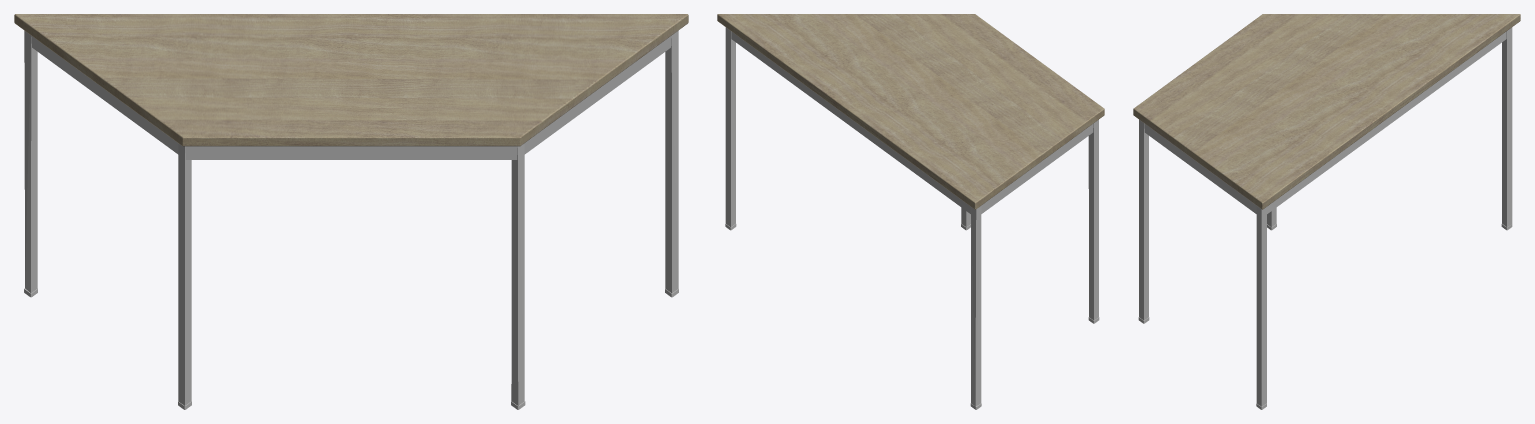
The model's file is conference_form28_160x80.fbx.
3 views of the same model, side by side, from view 1: azimuth 30°, elevation 25°; view 2: azimuth 150°, elevation 25°; view 3: azimuth 270°, elevation 25° (orthographic). The views are drawn at different scales.
Visible parts, largest first — view 1: drewno, metal; view 2: drewno, metal; view 3: drewno, metal.
Part boxes in pixels (left/top/right/bottom): drewno: left=14, top=14, right=688, bottom=146; metal: left=24, top=30, right=678, bottom=405; drewno: left=717, top=14, right=1104, bottom=209; metal: left=725, top=27, right=1098, bottom=406; drewno: left=1133, top=14, right=1520, bottom=209; metal: left=1139, top=27, right=1512, bottom=406.
Bounding box in the file's own units: 138 × 72 × 120.
